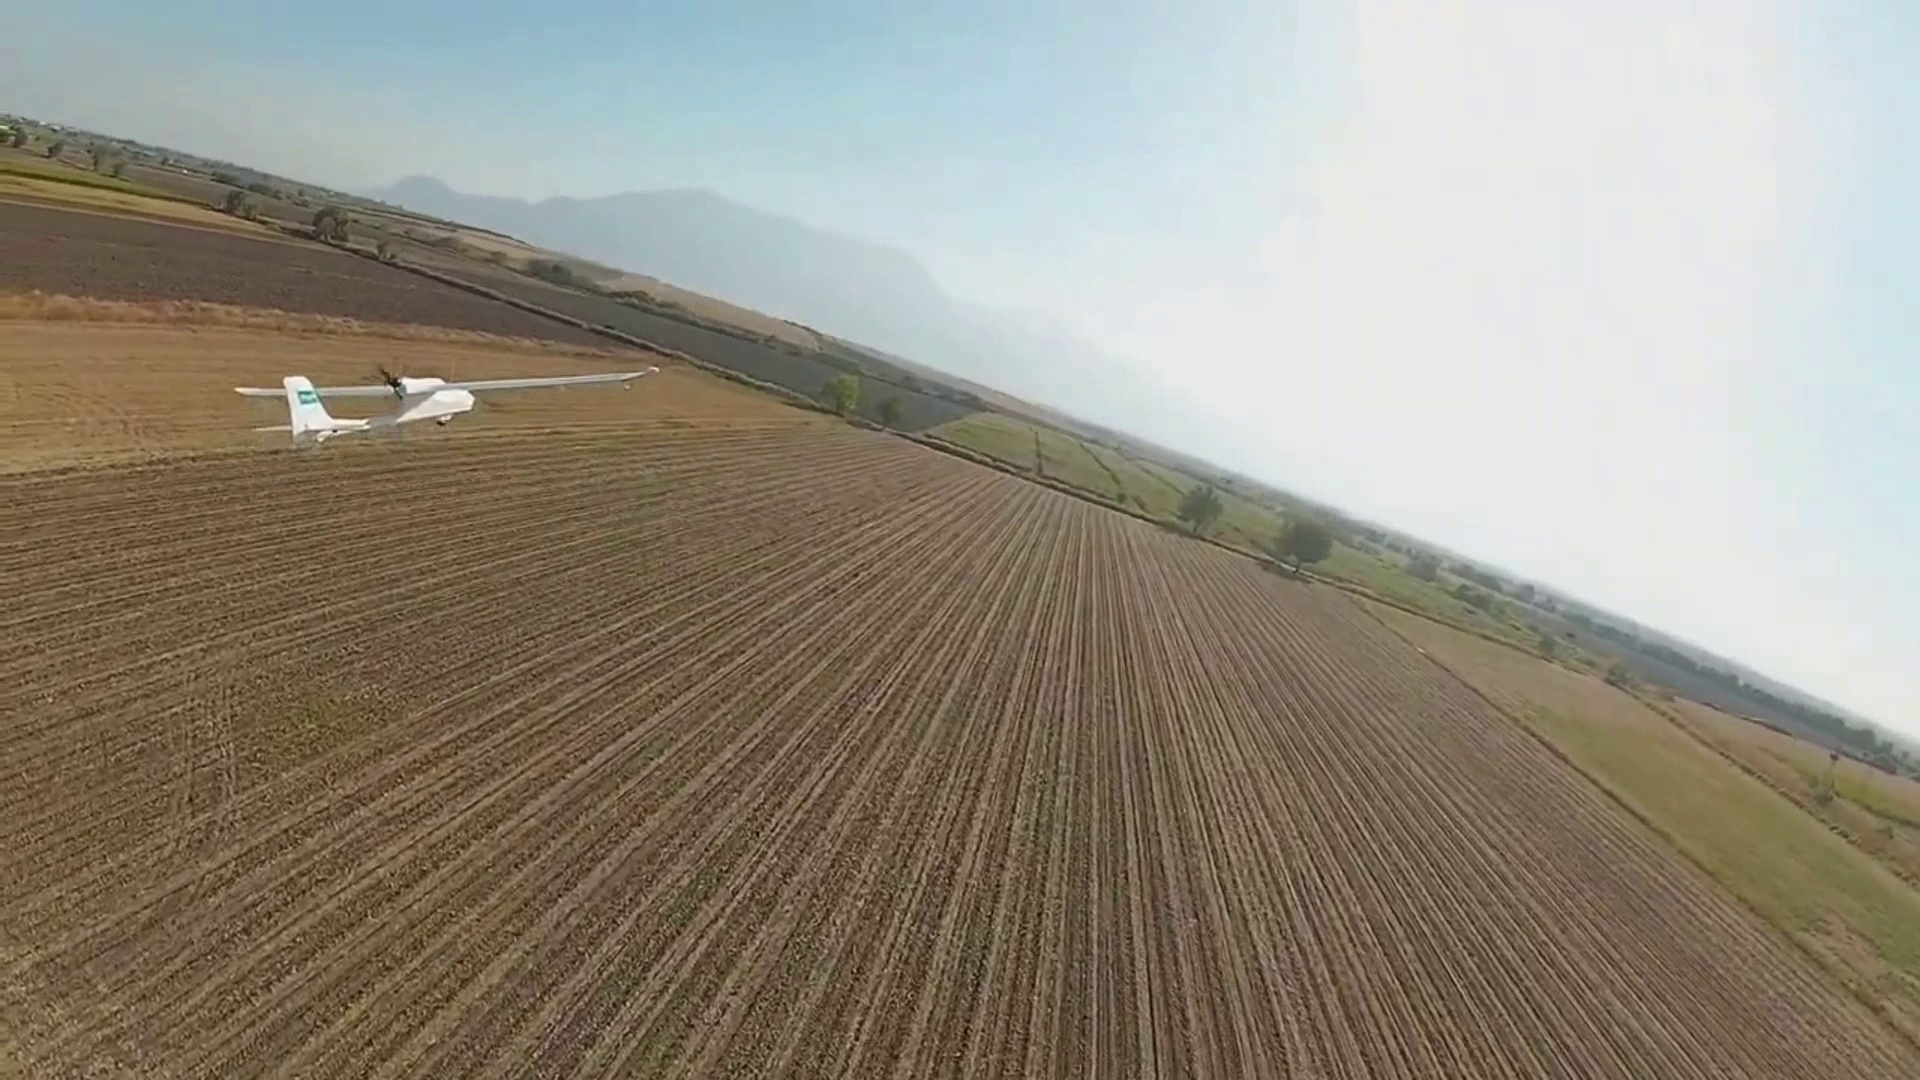airplane: (231, 371, 472, 442)
